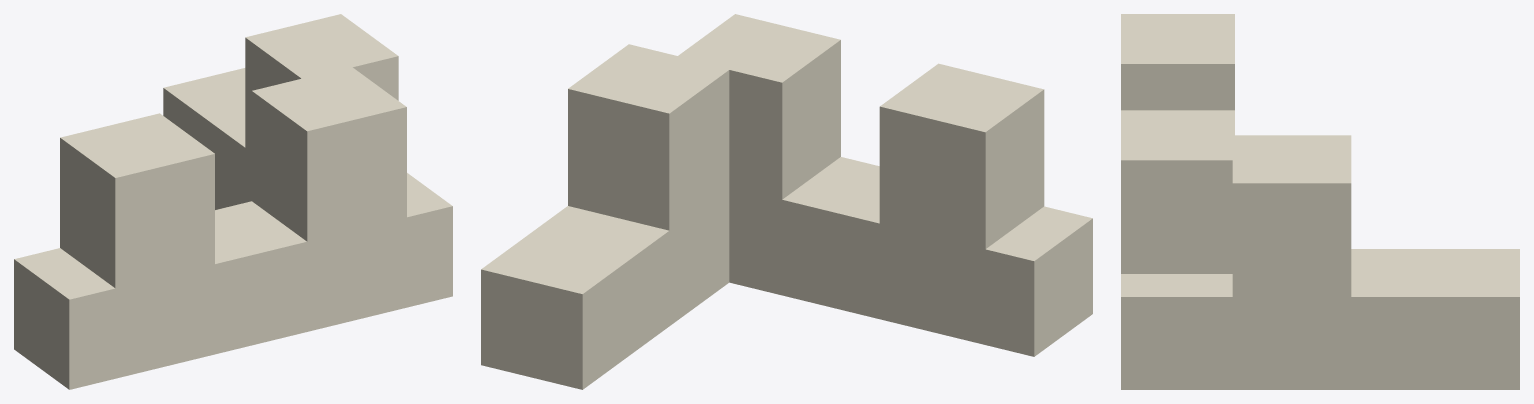
The model's file is parapet-corner.glb.
The picture shows the model from 3 angles, left to right: view 1: azimuth 30°, elevation 25°; view 2: azimuth 150°, elevation 25°; view 3: azimuth 270°, elevation 25°; orthographic projection. The views are drawn at different scales.
Parts seen in each view (by area): view 1: parapet-corner; view 2: parapet-corner; view 3: parapet-corner.
Part boxes in pixels (x1,y1,x2,y2): parapet-corner: (14,14,452,389); parapet-corner: (481,14,1092,389); parapet-corner: (1121,14,1519,389).
Size of the model in its own units: 2 by 1 by 1.75.
